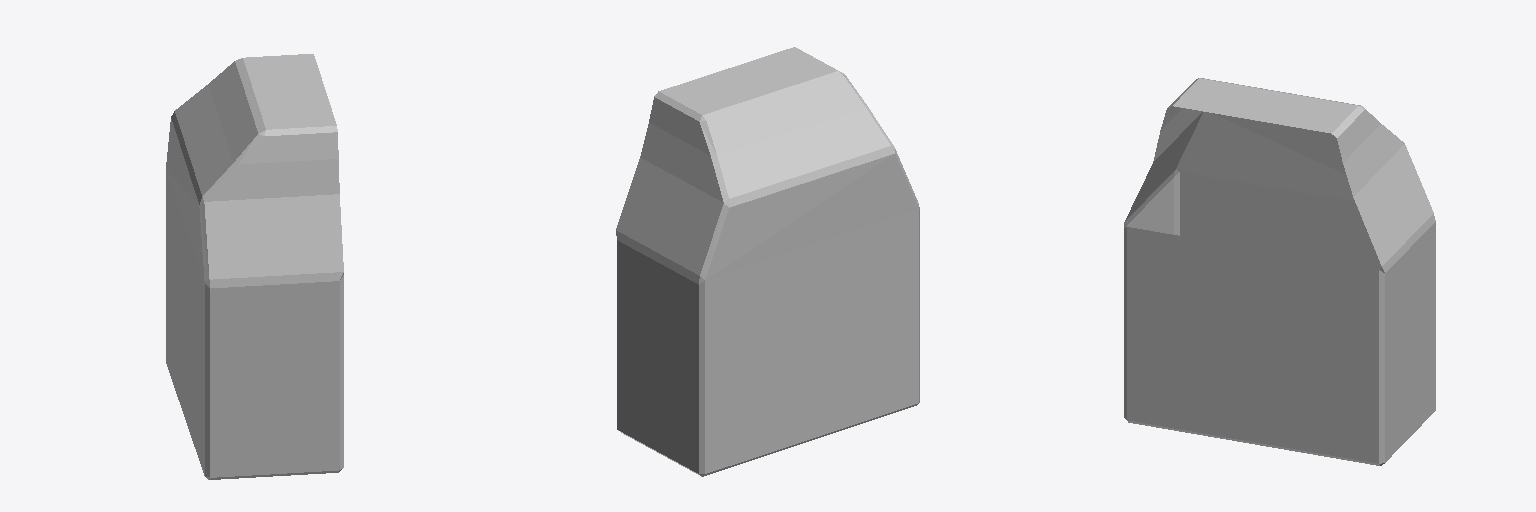
The picture shows the model from 3 angles: view 1: azimuth 30°, elevation 25°; view 2: azimuth 150°, elevation 25°; view 3: azimuth 270°, elevation 25°; orthographic projection.
Visible parts, largest first — view 1: Bistro_Research_Exterior_paris_building_11_5861; view 2: Bistro_Research_Exterior_paris_building_11_5861; view 3: Bistro_Research_Exterior_paris_building_11_5861.
Part boxes in pixels (x1,y1,x2,y2): Bistro_Research_Exterior_paris_building_11_5861: (166, 54, 343, 479); Bistro_Research_Exterior_paris_building_11_5861: (616, 47, 919, 476); Bistro_Research_Exterior_paris_building_11_5861: (1124, 78, 1435, 465).
Size of the model in its own units: 0.8065 by 1.24 by 1.07.